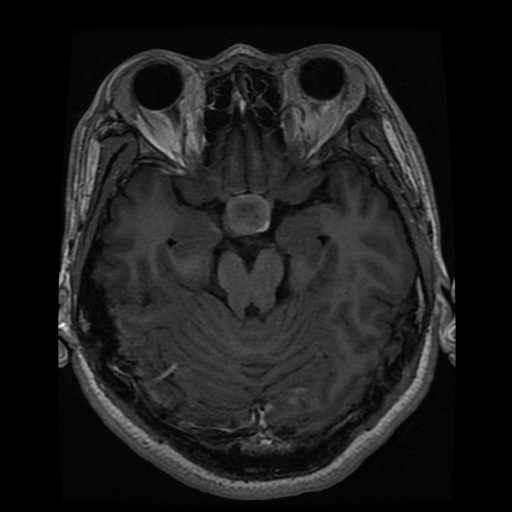pituitary: (223, 194, 271, 236)
